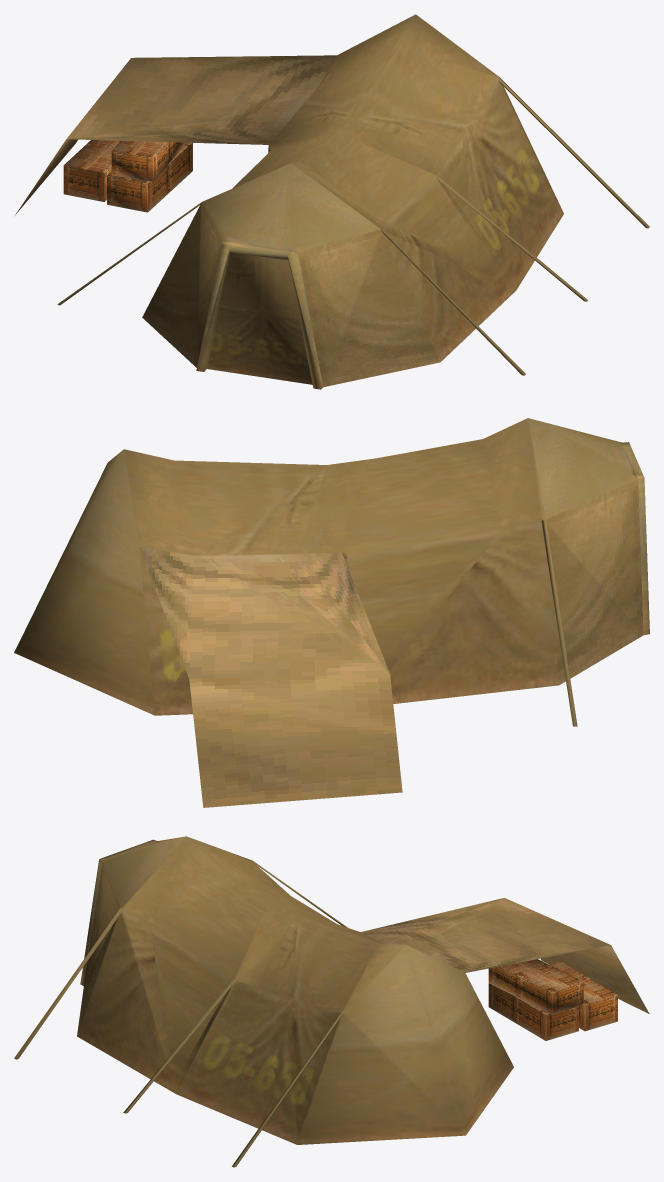
File: M3_Tent01.glb
3 renders of one model, top to bottom at view 1: azimuth 30°, elevation 25°; view 2: azimuth 150°, elevation 25°; view 3: azimuth 270°, elevation 25°, orthographic. The views are drawn at different scales.
Parts seen in each view (by area): view 1: M3_TENT01; view 2: M3_TENT01; view 3: M3_TENT01.
Boxes of the visible parts, <box> form: M3_TENT01: <box>15,14,649,389</box>; M3_TENT01: <box>14,418,649,807</box>; M3_TENT01: <box>14,836,649,1167</box>.
Size of the model in its own units: 8.57 by 2.77 by 9.9.
Materials: 10 (10 with a texture image).
